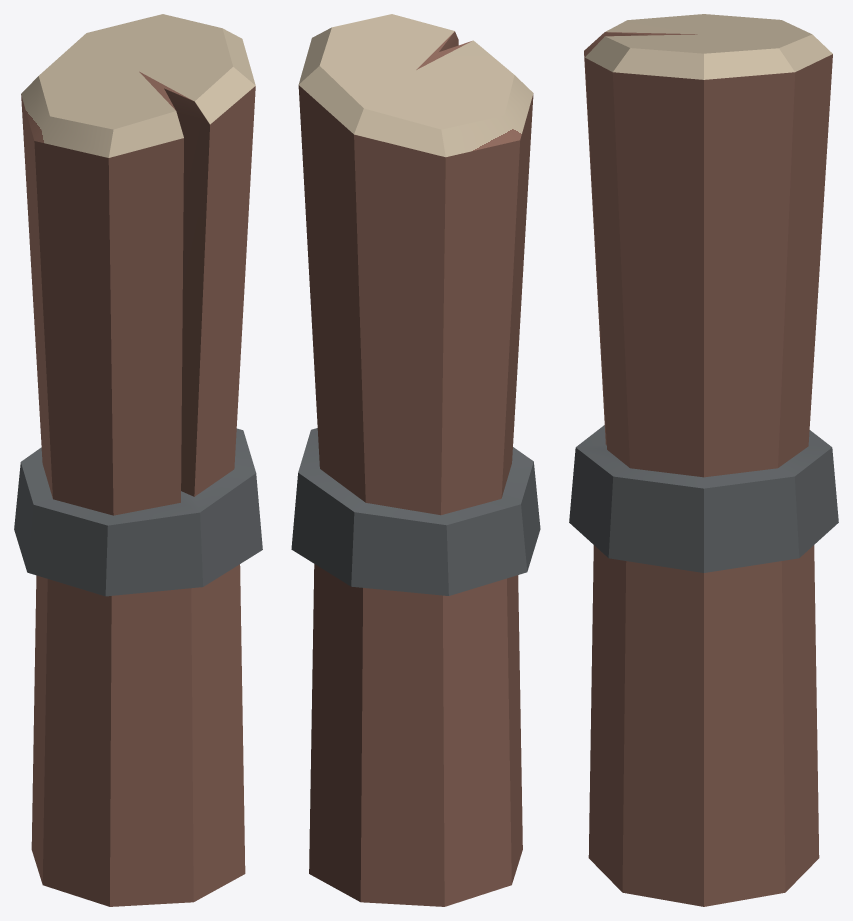
Rendered from SM_Wooden_Pillar_Small_Medium_03.fbx.
3 views of the same model, side by side, from view 1: azimuth 30°, elevation 25°; view 2: azimuth 150°, elevation 25°; view 3: azimuth 270°, elevation 25° (orthographic). The views are drawn at different scales.
Parts seen in each view (by area): view 1: Wooden_Pillar_Small_Medium_03; view 2: Wooden_Pillar_Small_Medium_03; view 3: Wooden_Pillar_Small_Medium_03.
Boxes of the visible parts, x1=… form: Wooden_Pillar_Small_Medium_03: x1=14, y1=14, x2=262, y2=906; Wooden_Pillar_Small_Medium_03: x1=291, y1=14, x2=540, y2=906; Wooden_Pillar_Small_Medium_03: x1=569, y1=14, x2=838, y2=906.
Size of the model in its own units: 14.82 by 51.78 by 14.94.
